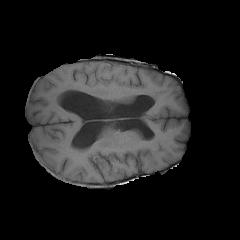glioma: (52, 80, 157, 108)
